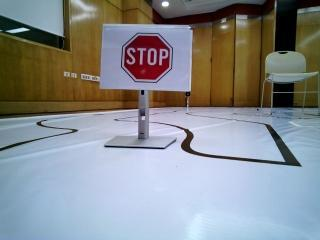stop: (108, 29, 182, 84)
